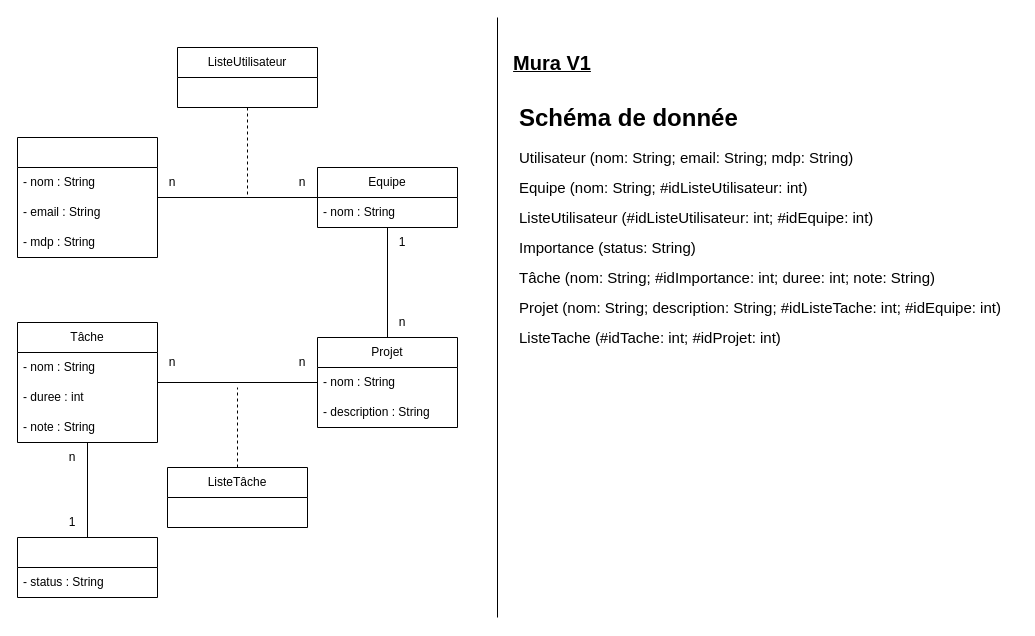
Image size: 1035x636. Some labels were removed from this diagram. Here are the shapes that lost their labels. From the top down, the box of each, then its label:
(16, 136, 158, 258): Utilisateur
(16, 536, 158, 598): Importance
